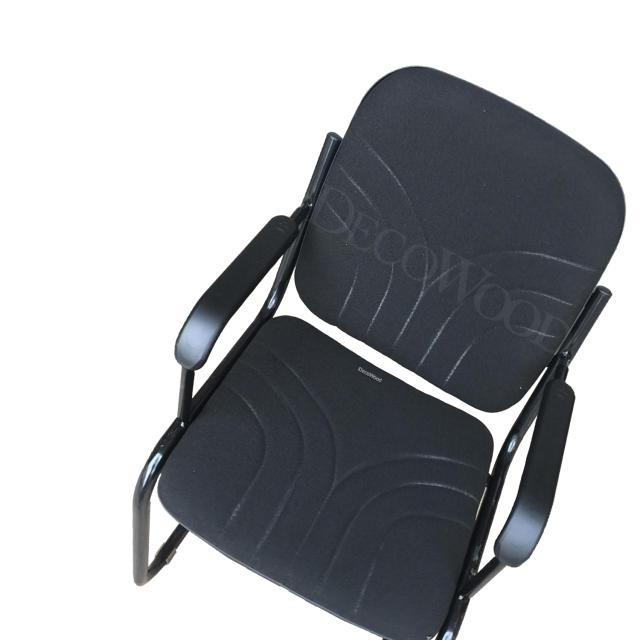Chair: (131, 60, 627, 640)
